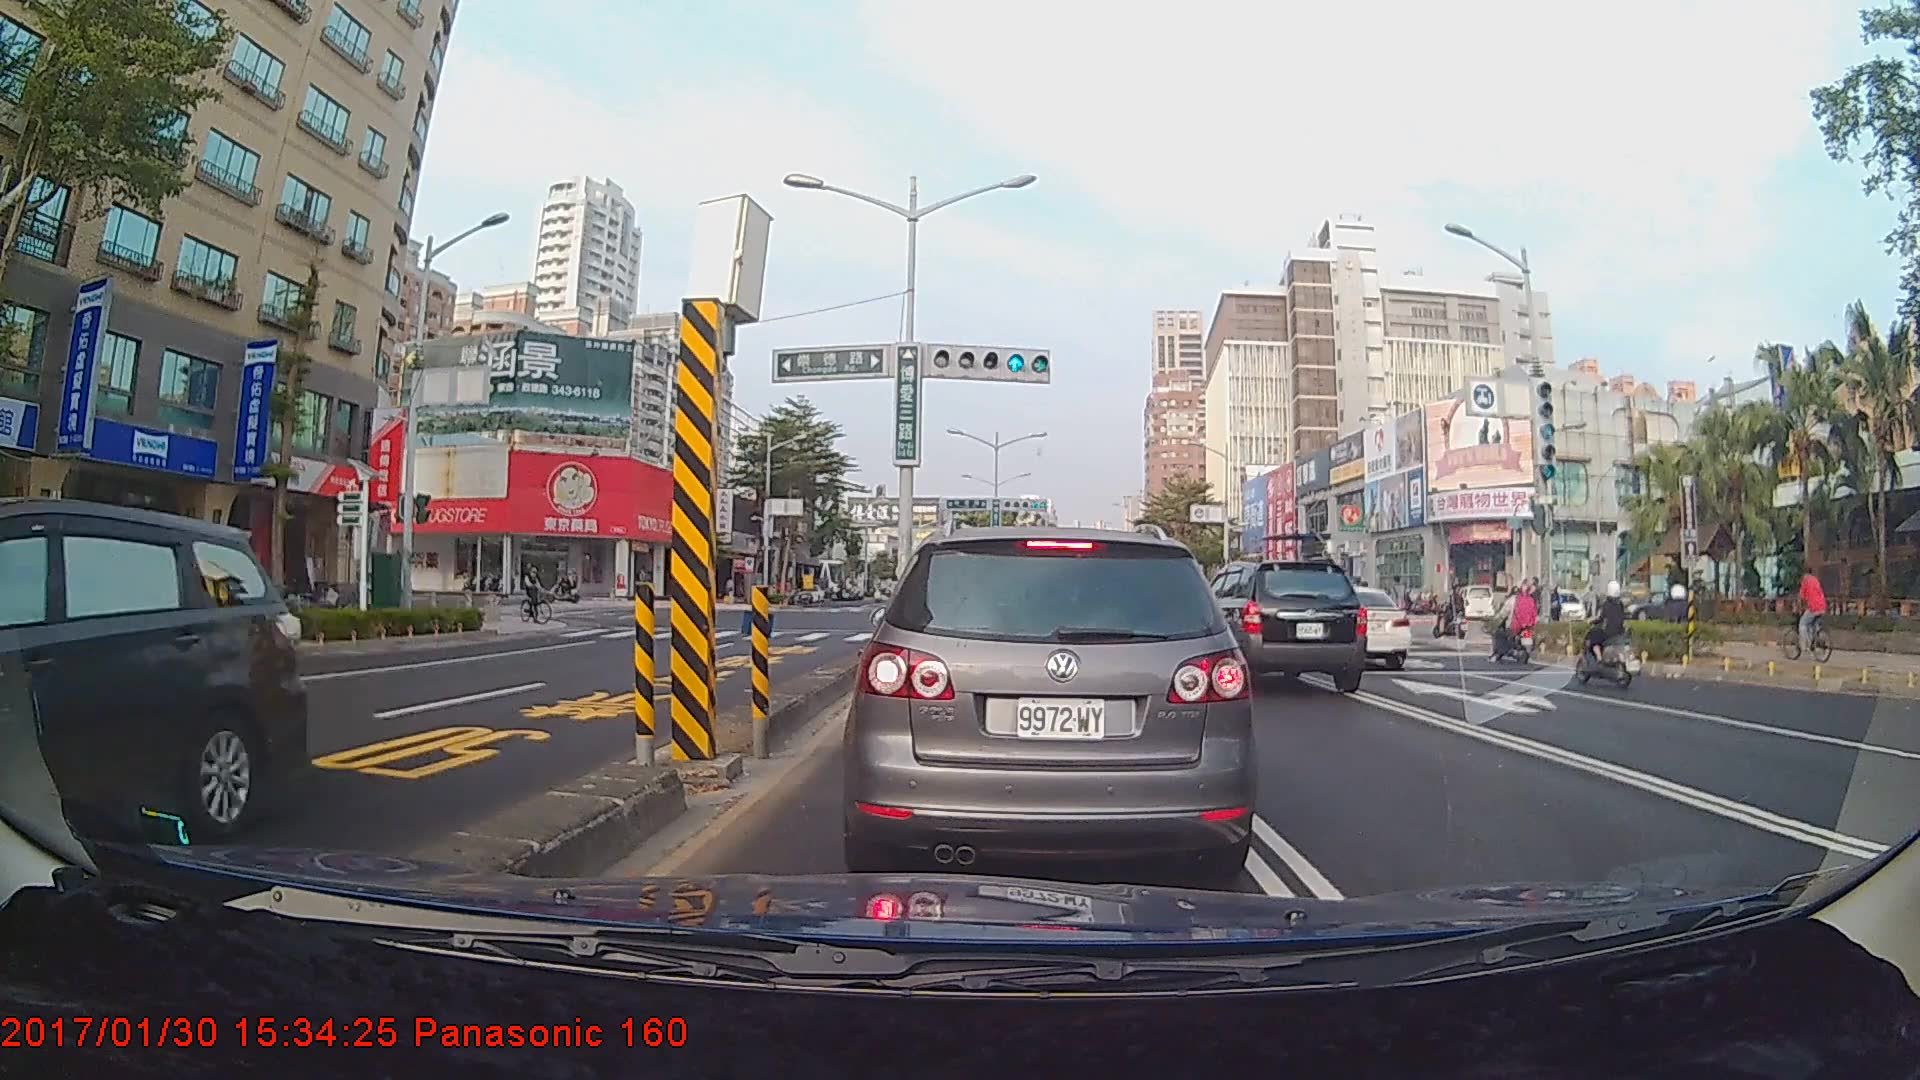pedestrian: (1583, 581, 1605, 640)
rider: (1579, 577, 1639, 698), (1485, 582, 1548, 668), (1778, 567, 1831, 660), (1647, 578, 1701, 654), (518, 559, 561, 629), (1436, 582, 1473, 646), (541, 563, 586, 610)
vehicle: (856, 522, 1247, 878), (0, 492, 308, 939), (1169, 553, 1370, 693), (1287, 584, 1412, 669)
